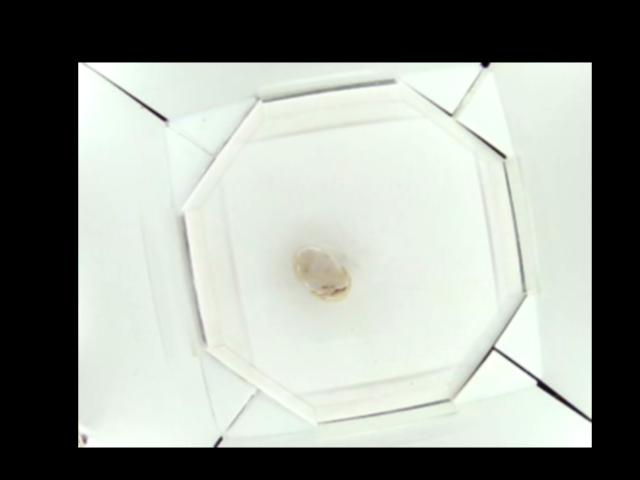Pebble: (289, 245, 350, 305)
